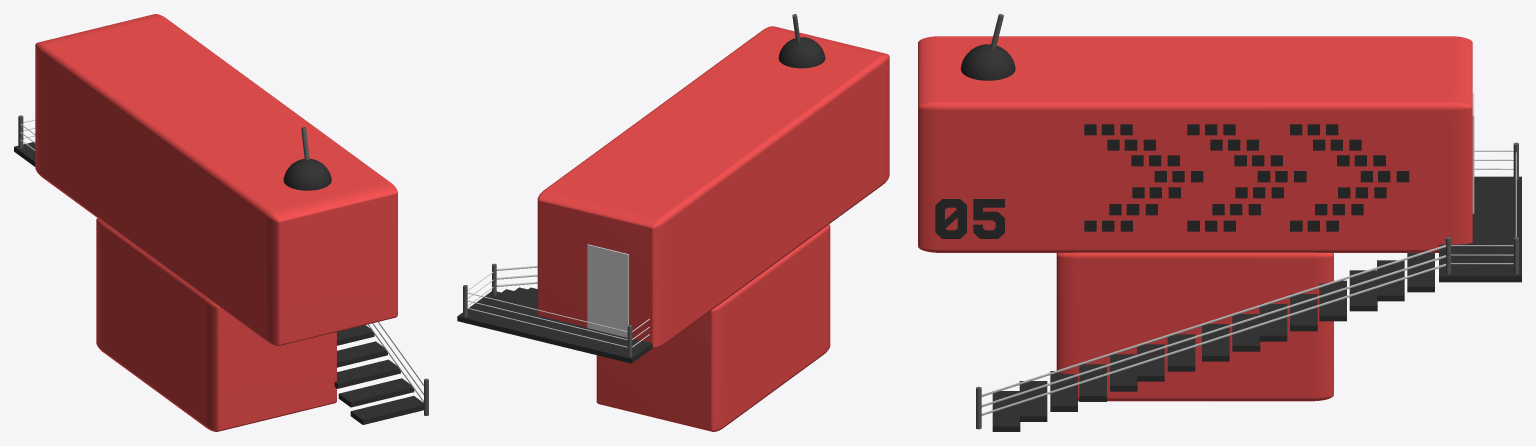
The model's file is bat_4_V2.fbx.
3 renders of one model, left to right at view 1: azimuth 30°, elevation 25°; view 2: azimuth 150°, elevation 25°; view 3: azimuth 270°, elevation 25°, orthographic. The views are drawn at different scales.
Parts seen in each view (by area): view 1: Cube.002, Cube.005, Sphere, Cube.022, Cube.024, Cube.021, Cylinder.013; view 2: Cube.002, Cube.004, Cube.001, Cylinder.013, Sphere; view 3: Cube.002, Cube.005, Cube.004, Cylinder.013, Text, Sphere, Cube.022, Cube.024, Cube.021.
Boxes of the visible parts, <box> form: Cube.002: <box>35,14,397,431</box>; Cube.005: <box>337,325,387,367</box>; Sphere: <box>283,158,331,190</box>; Cube.022: <box>338,378,414,407</box>; Cube.024: <box>350,396,423,424</box>; Cube.021: <box>334,359,400,388</box>; Cylinder.013: <box>20,119,423,402</box>; Cube.002: <box>537,26,889,431</box>; Cube.004: <box>457,291,652,363</box>; Cube.001: <box>587,244,628,337</box>; Cylinder.013: <box>467,265,649,347</box>; Sphere: <box>778,37,825,68</box>; Cube.002: <box>918,36,1472,401</box>; Cube.005: <box>1079,253,1434,401</box>; Cube.004: <box>1439,176,1521,282</box>; Cylinder.013: <box>981,150,1516,415</box>; Text: <box>935,199,1004,238</box>; Sphere: <box>960,44,1015,80</box>; Cube.022: <box>1019,381,1047,421</box>; Cube.024: <box>992,391,1020,431</box>; Cube.021: <box>1050,371,1077,411</box>.
Size of the model in its own units: 871 by 1410 by 2177.
